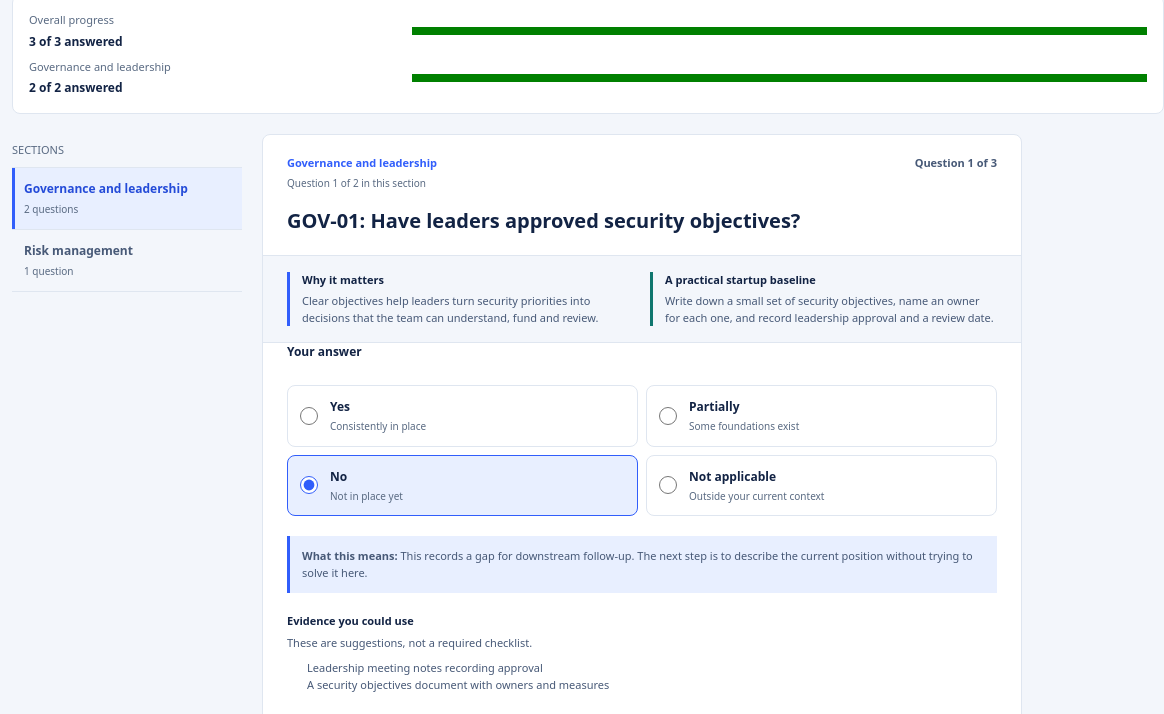
assessment reverted-save status recovery › recovers a saved answer reverted before failure=true without another PATCH
Click the radio button labelled "Yes" at [309, 416], box x1=300 y1=407 x2=318 y2=425
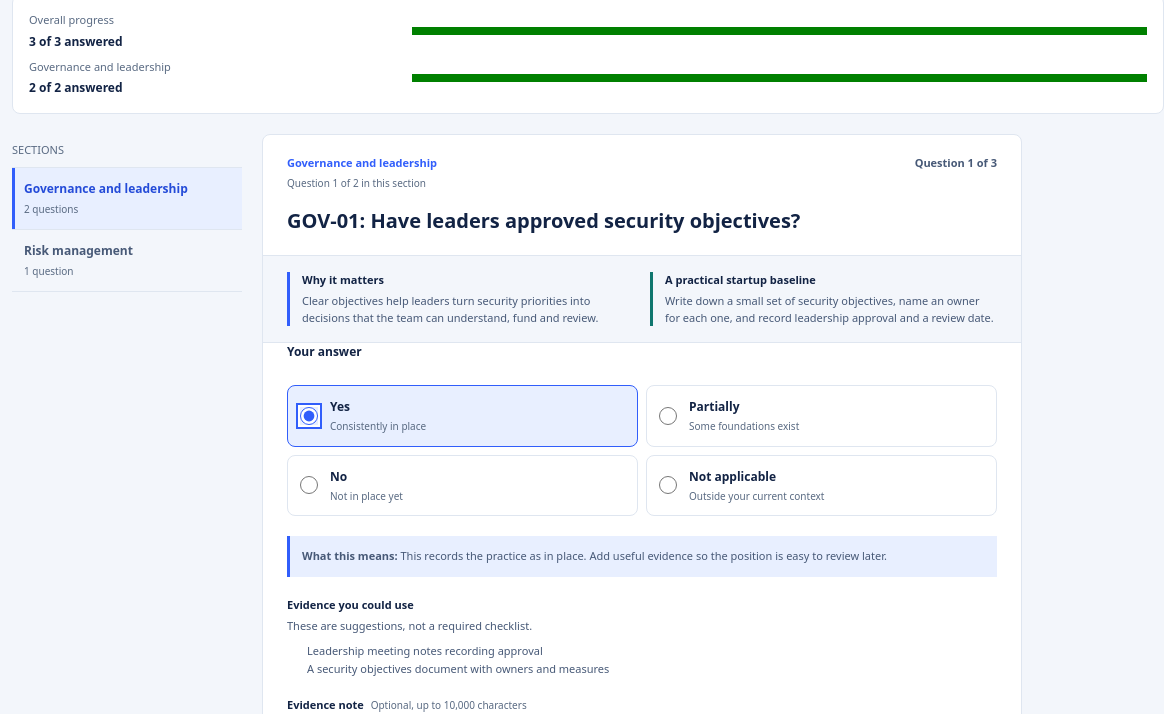
Click the radio button labelled "No" at [309, 485], box x1=300 y1=476 x2=318 y2=494
(page scrolled)
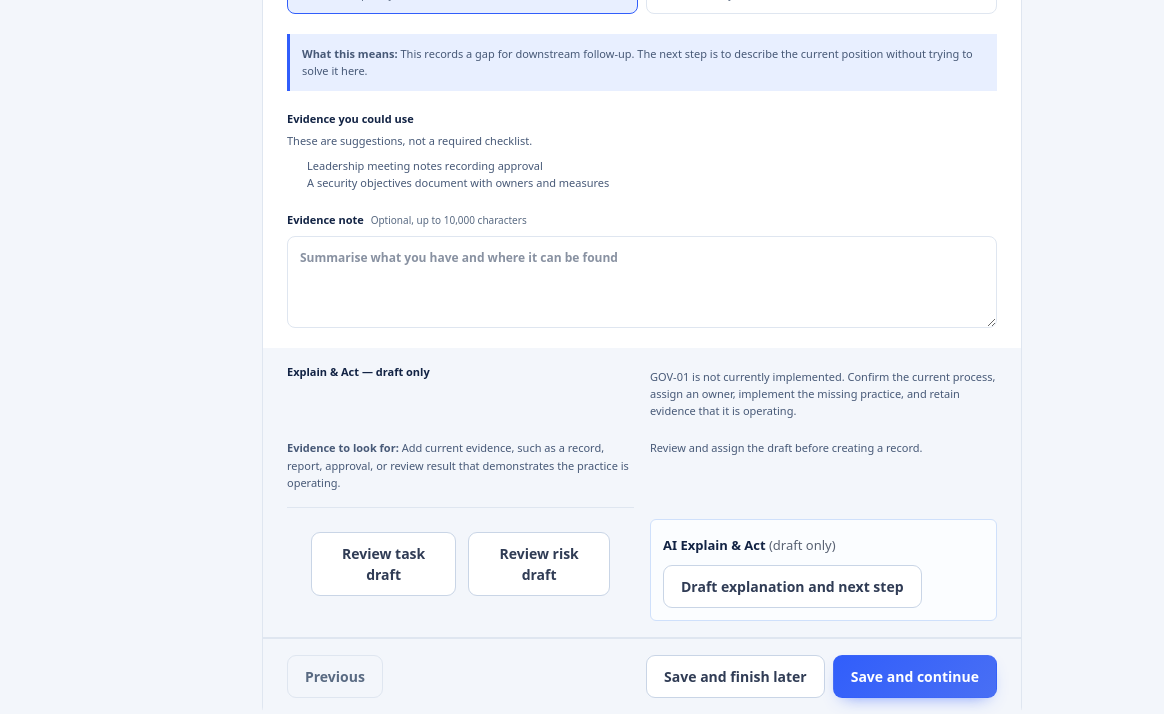
Now the button "Draft explanation and next step" is shown, box x1=663 y1=565 x2=922 y2=608
